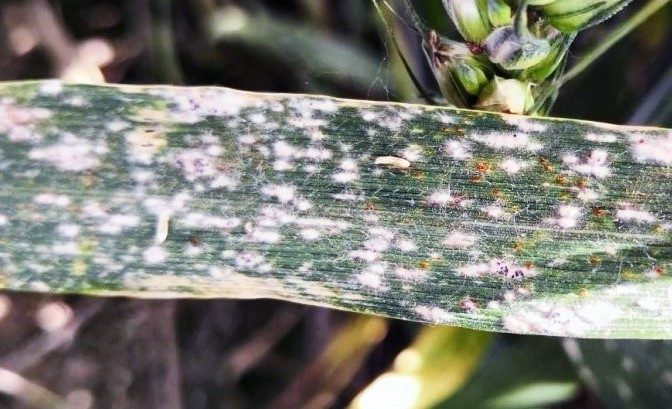Powdery Mildew: (71, 89, 630, 345)
